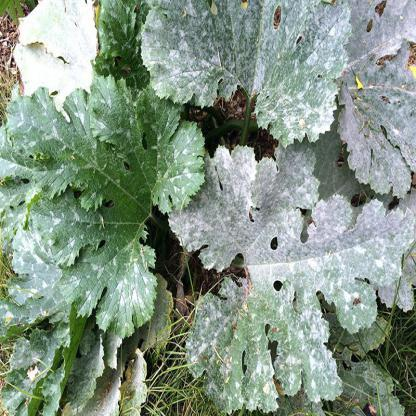Squash Powdery mildew leaf: (162, 147, 406, 415), (139, 1, 352, 136), (332, 2, 416, 198)
